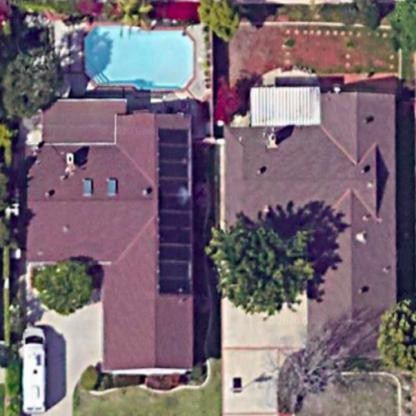car: (16, 320, 52, 416)
solar_panel: (149, 124, 197, 303)
swimming_pool: (71, 14, 201, 93)
